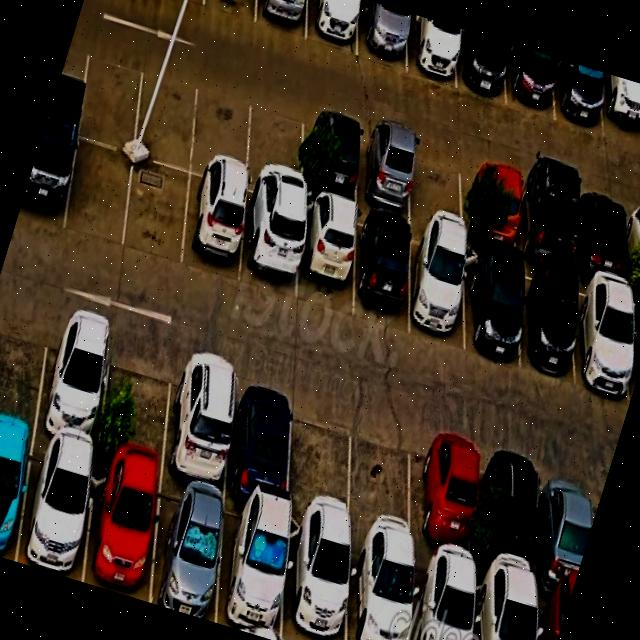empty: (98, 326, 175, 475), (351, 402, 419, 551), (288, 385, 353, 532), (133, 56, 201, 172), (64, 138, 134, 248), (77, 39, 144, 152), (123, 157, 190, 269), (0, 291, 52, 432), (190, 74, 251, 188), (245, 90, 304, 206), (411, 136, 463, 232), (203, 0, 256, 23)
occupied: (34, 305, 112, 454), (16, 437, 94, 582), (163, 345, 237, 494), (149, 477, 224, 623), (84, 458, 159, 602), (215, 498, 288, 640), (225, 365, 295, 510), (414, 419, 476, 570), (484, 439, 541, 586), (281, 516, 348, 640), (538, 455, 592, 596), (296, 195, 356, 316), (575, 272, 631, 398), (181, 175, 245, 284), (409, 227, 464, 351), (352, 211, 409, 330), (517, 260, 574, 379), (464, 246, 519, 368), (17, 123, 78, 231), (348, 538, 412, 640), (239, 193, 298, 301), (302, 106, 360, 205), (519, 169, 573, 270), (358, 122, 412, 219), (412, 553, 472, 640), (466, 153, 517, 251), (578, 184, 626, 279), (0, 428, 33, 561), (475, 571, 535, 640), (554, 57, 603, 137), (506, 43, 555, 120), (456, 27, 505, 104), (406, 12, 455, 87), (357, 0, 406, 69), (600, 71, 640, 150), (305, 0, 360, 55), (255, 0, 307, 40), (536, 587, 570, 640), (630, 287, 640, 395), (628, 198, 640, 282)
